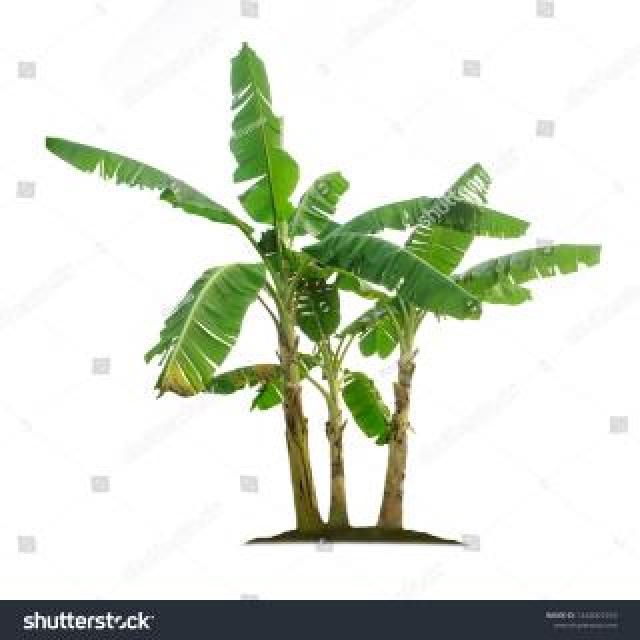Pisang: (60, 36, 597, 552)
